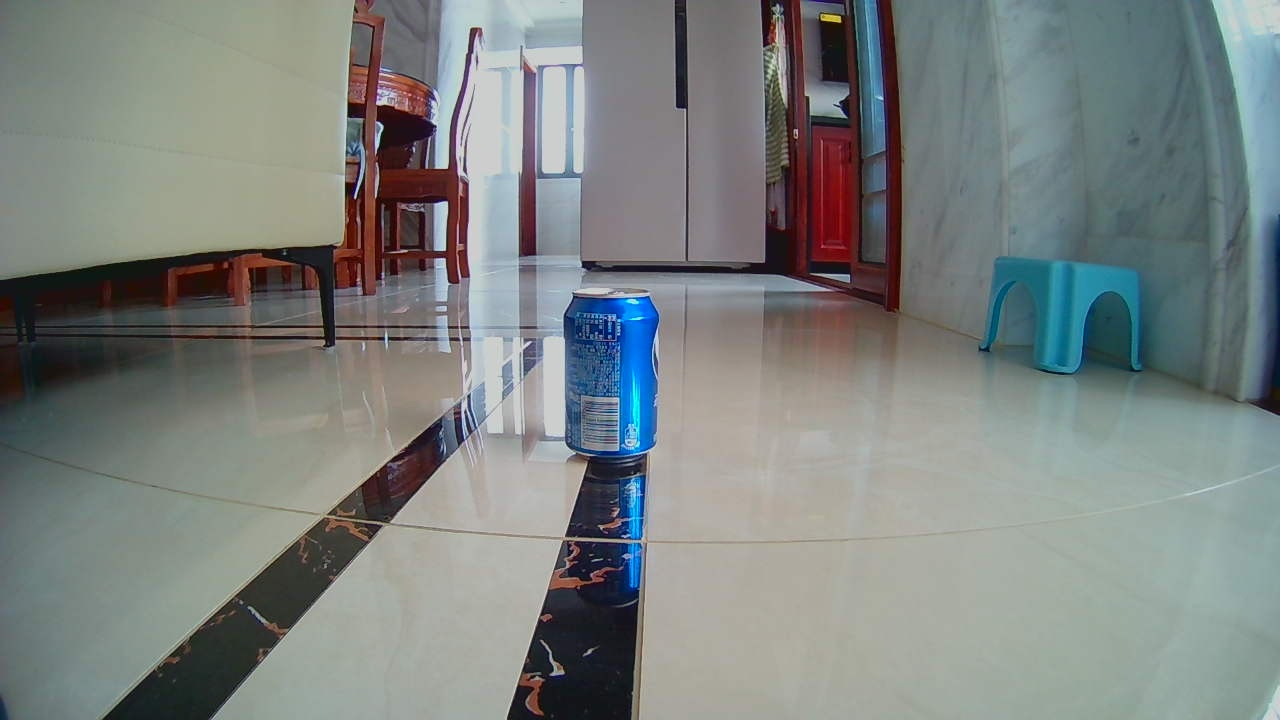pessi: (566, 286, 656, 458)
